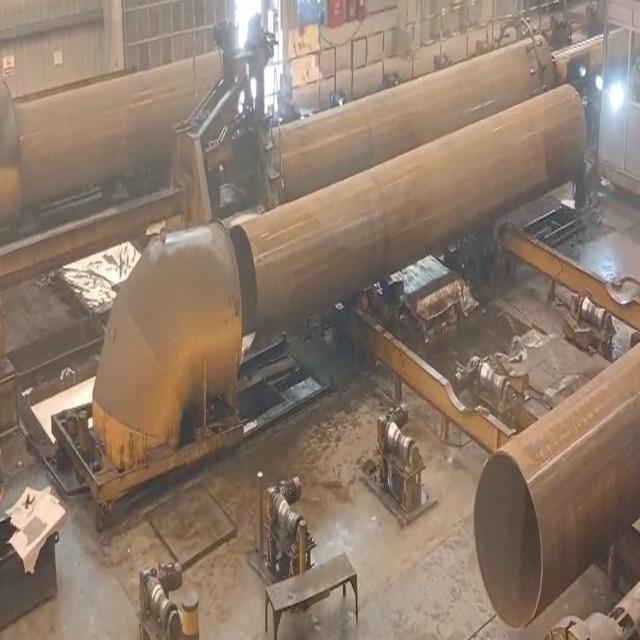warningzone: (344, 216, 637, 451)
